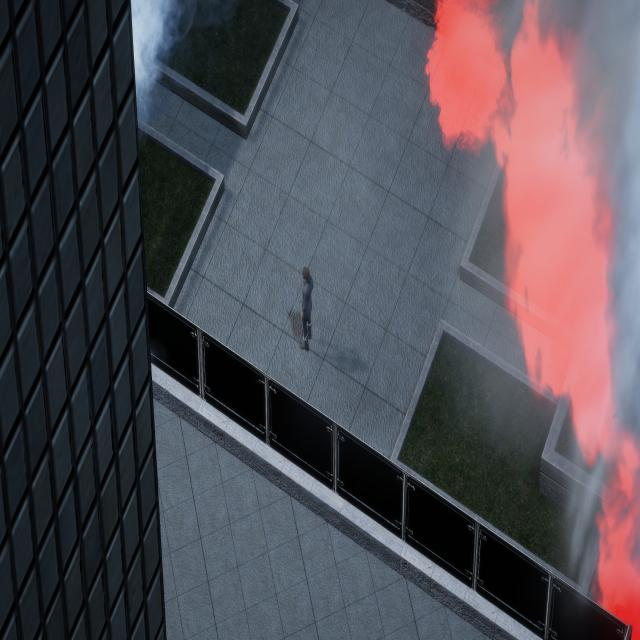Human: (290, 258, 321, 370)
